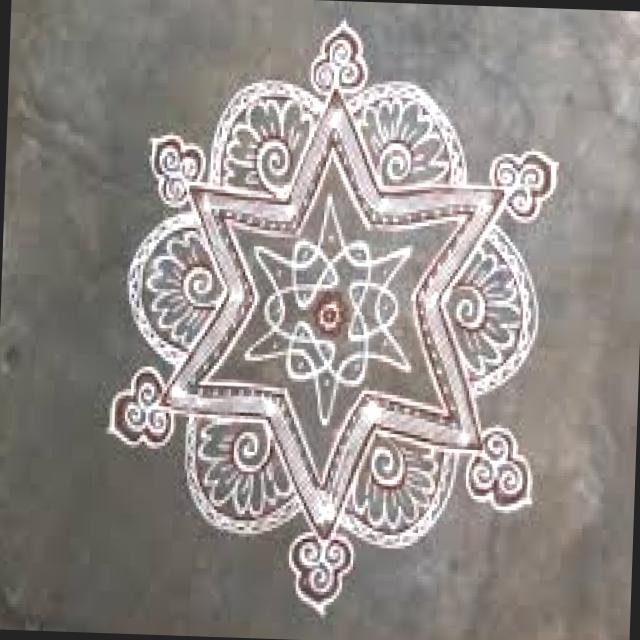rangoli: (94, 20, 567, 617)
